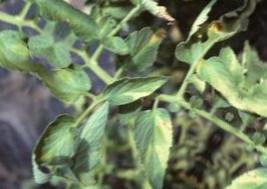Tomato mold leaf: (107, 98, 205, 189), (101, 49, 179, 127), (25, 105, 95, 187), (111, 9, 177, 83), (33, 51, 102, 114), (193, 53, 252, 108)
